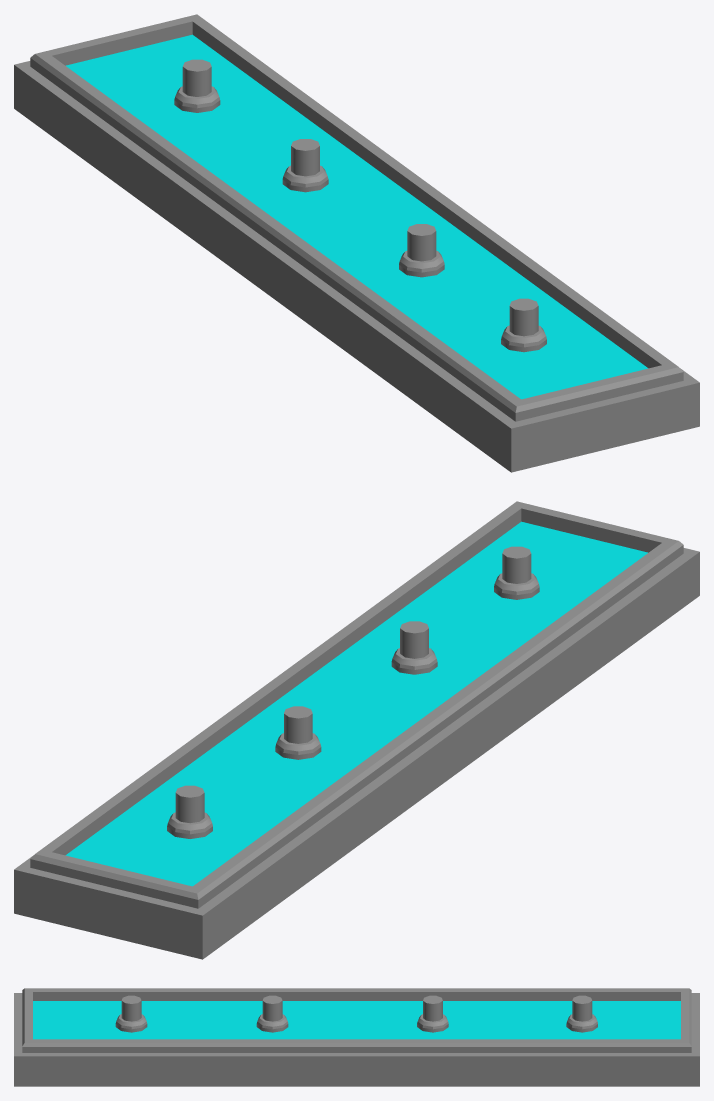
Rendered from MOD_FontaineA.FBX.
3 renders of one model, top to bottom at view 1: azimuth 30°, elevation 25°; view 2: azimuth 150°, elevation 25°; view 3: azimuth 270°, elevation 25°, orthographic. The views are drawn at different scales.
Visible parts, largest first — view 1: Fontaine; view 2: Fontaine; view 3: Fontaine.
Boxes of the visible parts, bbox=[...] form: Fontaine: bbox=[14, 14, 699, 472]; Fontaine: bbox=[14, 501, 699, 959]; Fontaine: bbox=[14, 988, 699, 1086].
Size of the model in its own units: 44.91 by 18.59 by 205.
